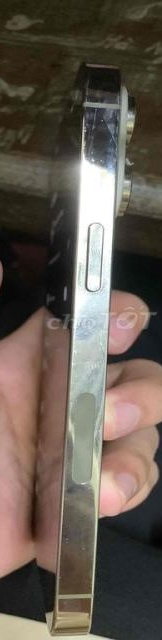scratch: (64, 88, 128, 208), (63, 293, 123, 408)
